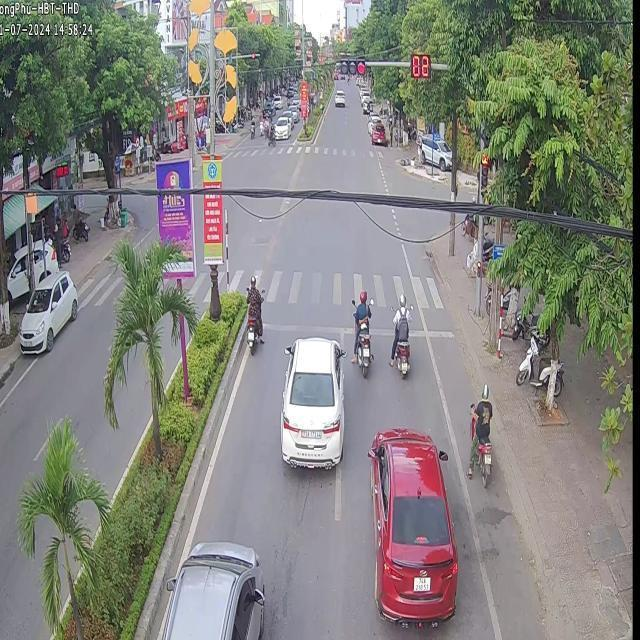car: (367, 427, 457, 622), (160, 540, 263, 638), (279, 336, 344, 467), (18, 269, 77, 351)
motobike: (349, 289, 370, 376), (388, 309, 408, 376), (244, 282, 260, 351), (474, 436, 490, 485)
red_light: (337, 57, 368, 75), (408, 53, 430, 76), (481, 152, 487, 194)
stop_line: (262, 321, 352, 332), (368, 322, 392, 340)
